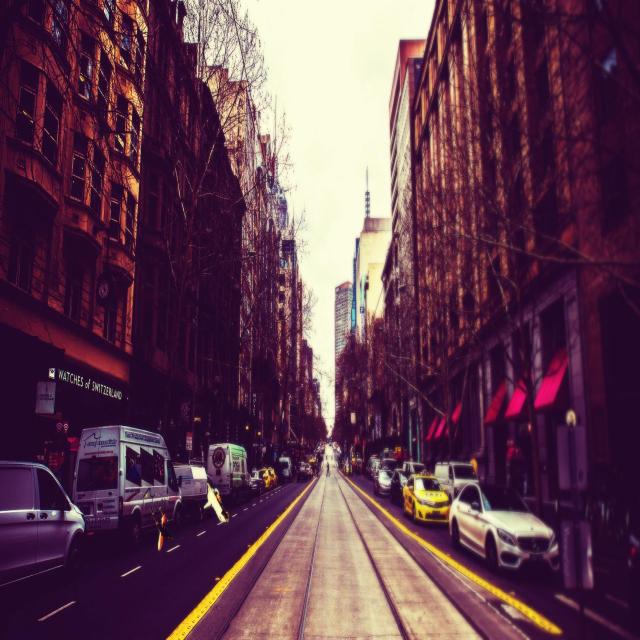airplane: (204, 480, 227, 523), (155, 508, 166, 550)
